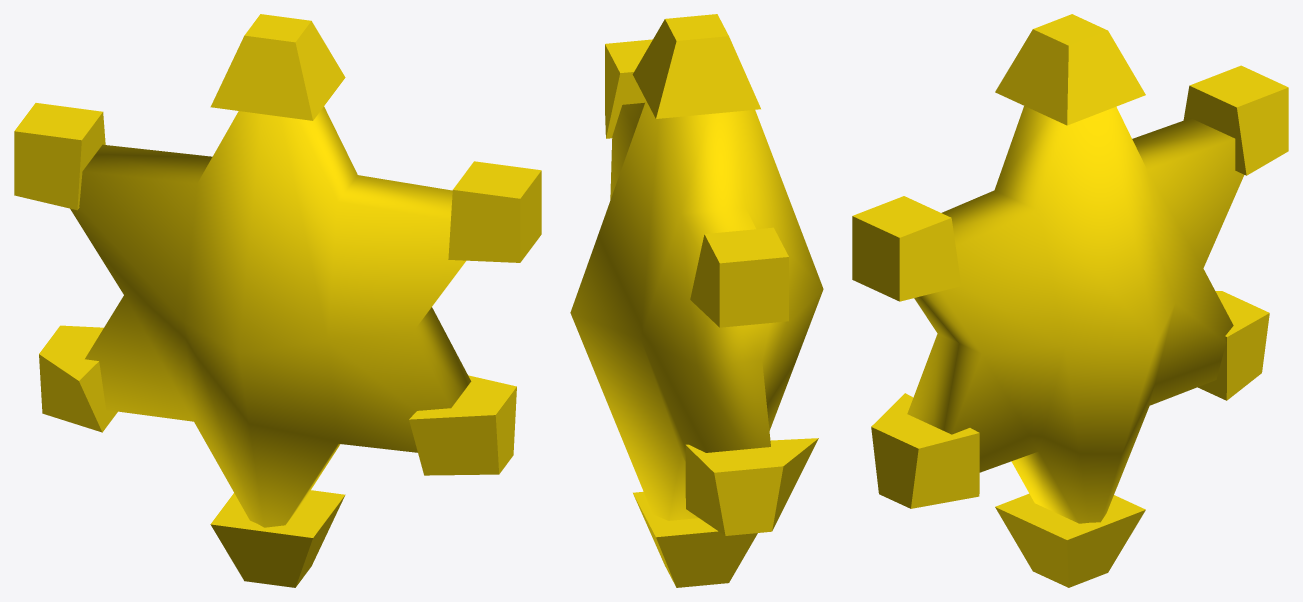
Rendered from Health_spin_anim.fbx.
The picture shows the model from 3 angles, left to right: view 1: azimuth 30°, elevation 25°; view 2: azimuth 150°, elevation 25°; view 3: azimuth 270°, elevation 25°; orthographic projection.
Visible parts, largest first — view 1: Cube; view 2: Cube; view 3: Cube.
Part boxes in pixels (<box>): Cube: <box>14,14,541,587</box>; Cube: <box>570,14,823,587</box>; Cube: <box>852,14,1288,587</box>.
Size of the model in its own units: 16.97 by 24.89 by 18.16.
